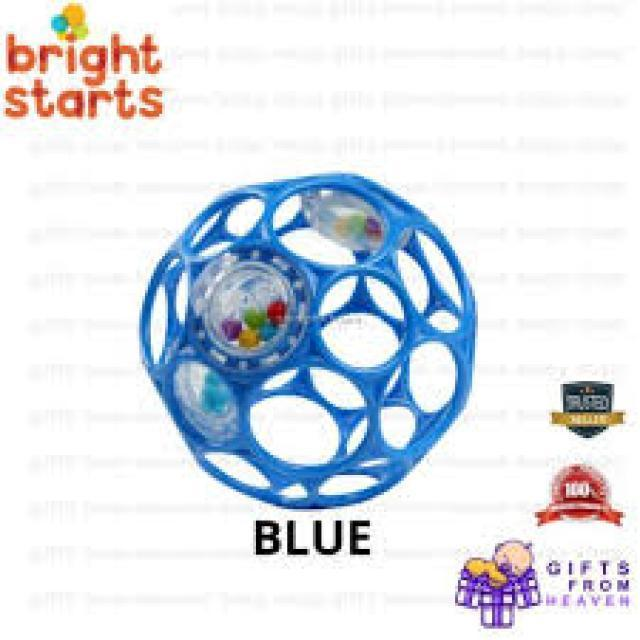hard-toy: (141, 175, 476, 510)
